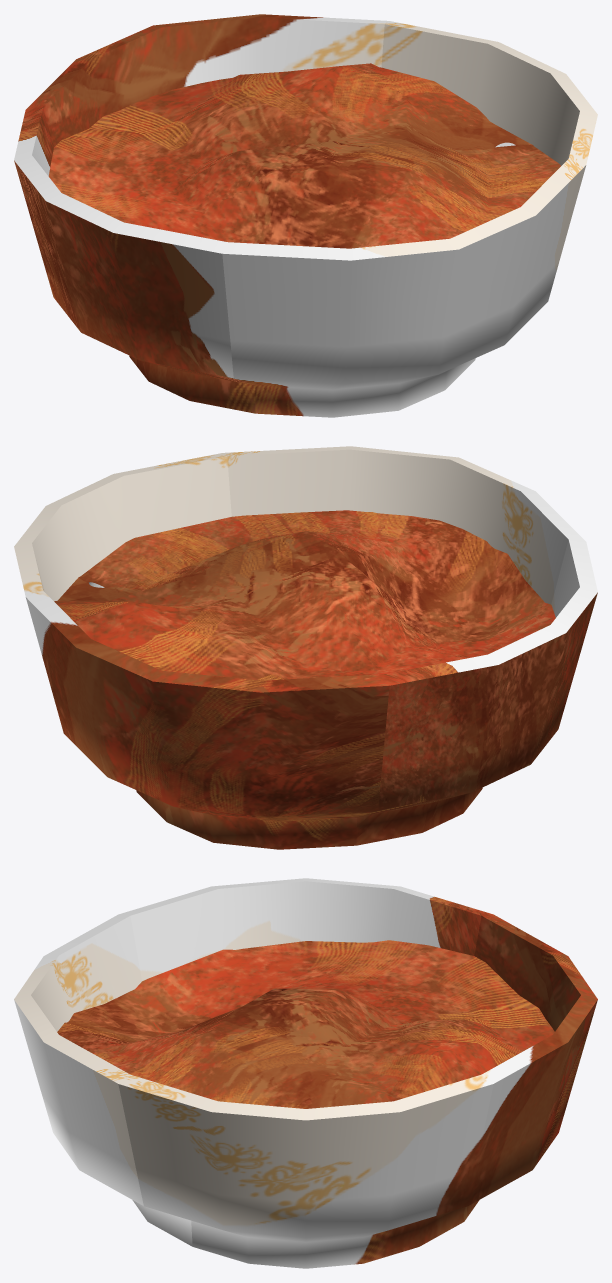
The model's file is dubiousfoodbutt.obj.
3 renders of one model, top to bottom at view 1: azimuth 30°, elevation 25°; view 2: azimuth 150°, elevation 25°; view 3: azimuth 270°, elevation 25°, orthographic. The views are drawn at different scales.
Visible parts, largest first — view 1: pCube1, pDisc1; view 2: pCube1, pDisc1; view 3: pCube1, pDisc1.
Boxes of the visible parts, x1,y1,x2,y2 form: pCube1: (14,14,597,417); pDisc1: (48,63,560,248); pCube1: (14,446,597,849); pDisc1: (54,510,555,680); pCube1: (14,878,597,1268); pDisc1: (57,940,554,1108).
Bounding box in the file's own units: 2.01 × 0.7965 × 2.05.
